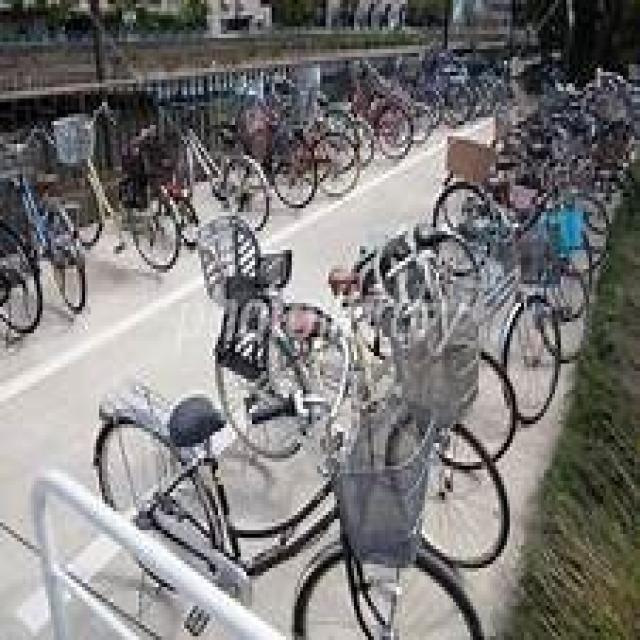basket: (333, 400, 432, 580), (515, 230, 560, 286)
childseat: (197, 205, 292, 388)
